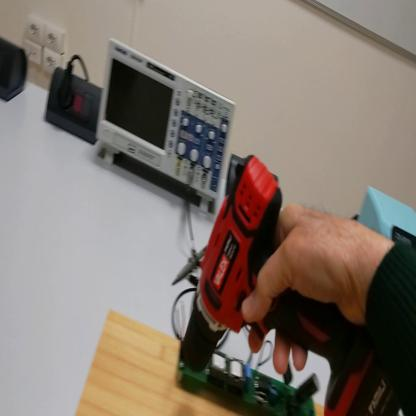electric screwdriver: (182, 157, 400, 416)
hand: (241, 203, 384, 372)
high voltage board: (182, 299, 325, 416)
oscilloscope: (97, 38, 237, 215)
oscilloscope probe tip: (174, 245, 209, 290)
socket: (45, 64, 103, 146), (2, 34, 29, 103)
welder station: (357, 189, 416, 241)
working area: (75, 309, 326, 416)
